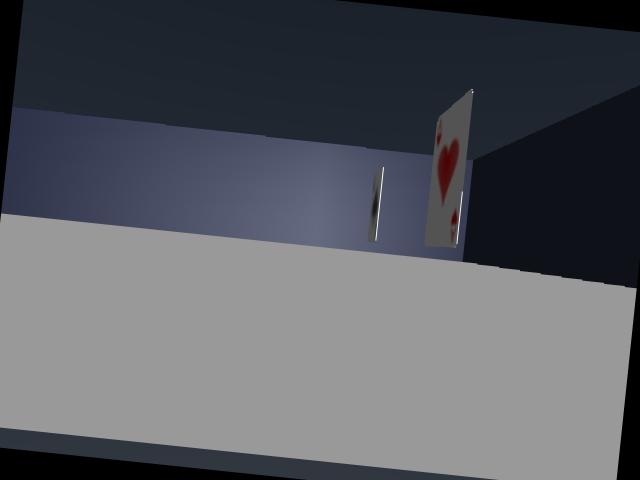club: (367, 167, 383, 242)
heart: (424, 90, 472, 247)
